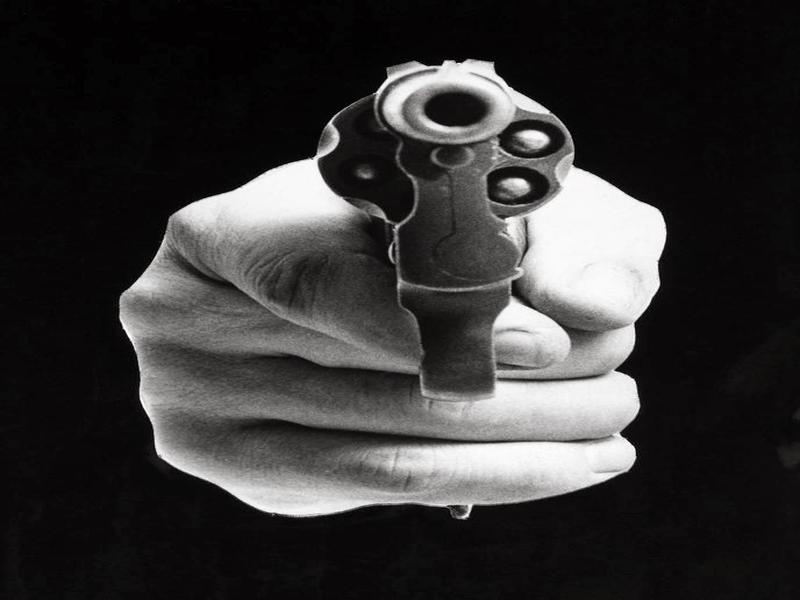Revolver: (275, 22, 609, 413)
